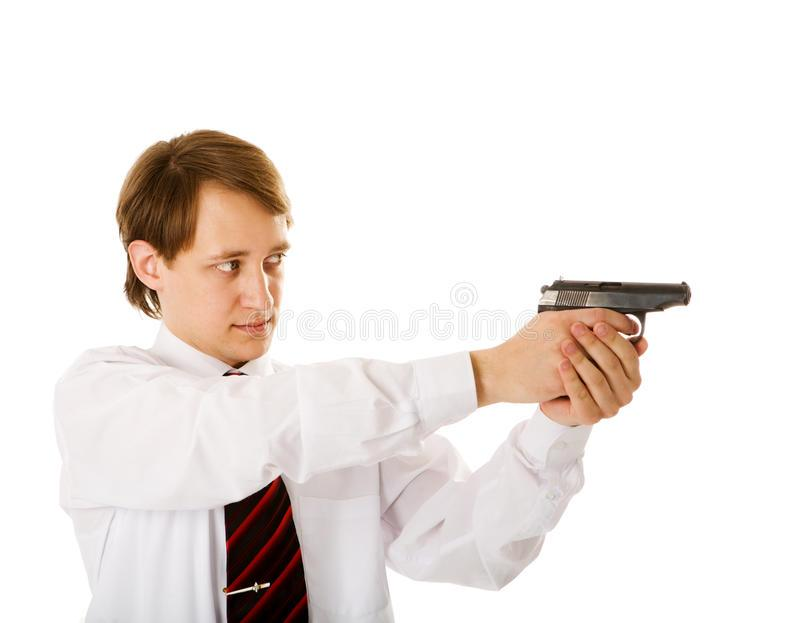criminal: (46, 125, 700, 623)
weapon: (526, 269, 699, 355)
